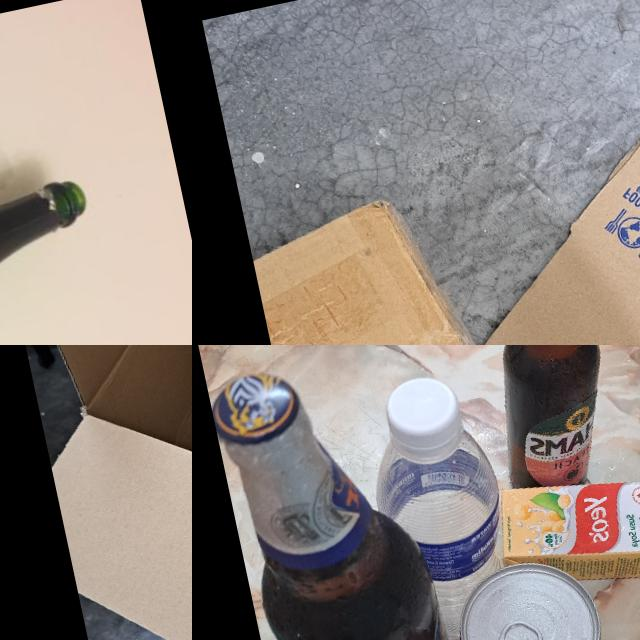aba de lata: (481, 614, 549, 640)
caixinha: (488, 448, 640, 616)
garrafa de vidro: (205, 345, 473, 640), (455, 345, 637, 496), (0, 171, 122, 345)
garrafa plástica: (363, 417, 527, 640)
lata: (445, 548, 620, 640)
papelão: (430, 54, 640, 345), (0, 345, 192, 640), (246, 177, 581, 345)
tampa plástica: (380, 371, 468, 465)
